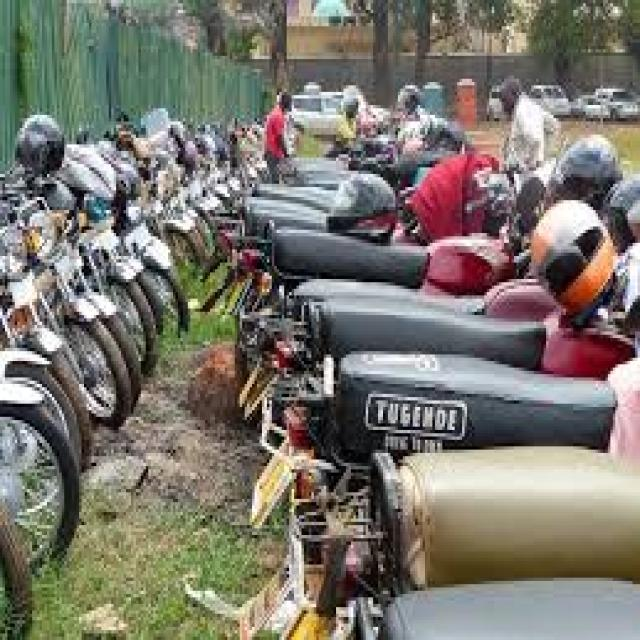bodaboda: (1, 109, 129, 599)
